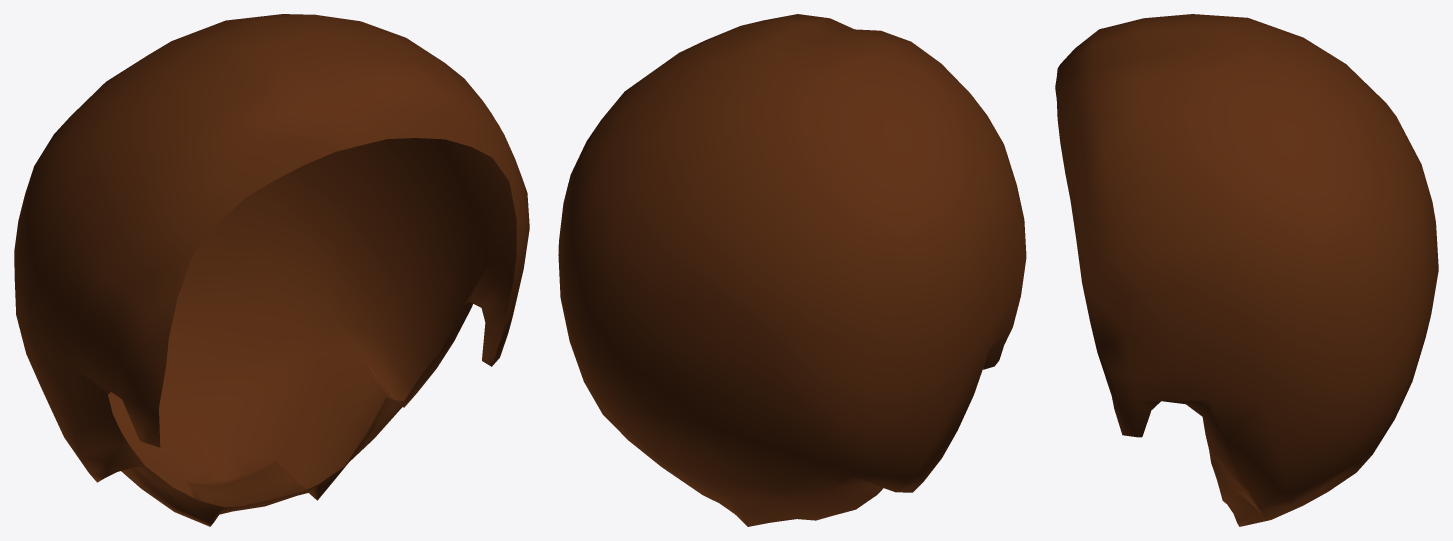
3 renders of one model, left to right at view 1: azimuth 30°, elevation 25°; view 2: azimuth 150°, elevation 25°; view 3: azimuth 270°, elevation 25°, orthographic. The views are drawn at different scales.
Visible parts, largest first — view 1: Mesh_HairB; view 2: Mesh_HairB; view 3: Mesh_HairB.
Boxes of the visible parts, box(x1,y1,x2,y2) form: Mesh_HairB: box(14, 14, 529, 526); Mesh_HairB: box(558, 14, 1026, 526); Mesh_HairB: box(1055, 14, 1438, 526).
Size of the model in its own units: 64 by 67.07 by 50.38.
